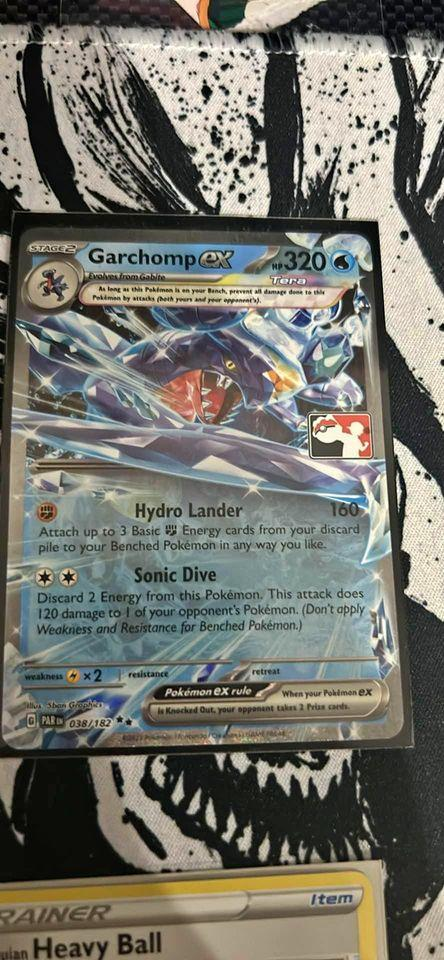card: (2, 226, 407, 751)
